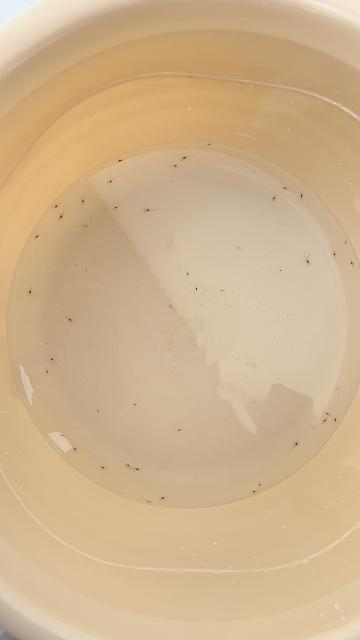benur: (114, 157, 122, 166), (142, 205, 149, 214), (298, 191, 305, 199), (79, 196, 86, 203), (55, 215, 63, 221), (106, 180, 113, 186), (51, 205, 58, 211), (179, 156, 185, 163), (175, 428, 181, 435), (68, 318, 74, 324), (294, 440, 300, 446), (96, 410, 102, 416), (112, 205, 117, 212), (282, 184, 287, 191), (84, 222, 89, 228), (250, 490, 256, 495), (306, 260, 311, 266), (270, 197, 276, 202), (134, 402, 139, 408), (33, 236, 38, 241), (99, 464, 104, 469), (136, 467, 141, 472), (321, 419, 326, 424), (333, 416, 338, 421), (348, 259, 353, 264), (343, 239, 348, 244), (28, 290, 32, 296), (74, 447, 78, 453), (158, 497, 164, 501), (174, 164, 180, 168), (46, 370, 50, 375), (257, 483, 261, 488), (332, 251, 337, 255), (194, 287, 198, 292), (326, 413, 332, 416), (49, 357, 53, 361), (126, 463, 130, 467), (148, 501, 152, 505), (279, 269, 283, 273), (186, 273, 190, 277), (207, 143, 212, 146), (238, 247, 243, 250), (60, 434, 64, 437), (219, 289, 223, 292), (312, 426, 315, 429), (308, 253, 311, 256)
